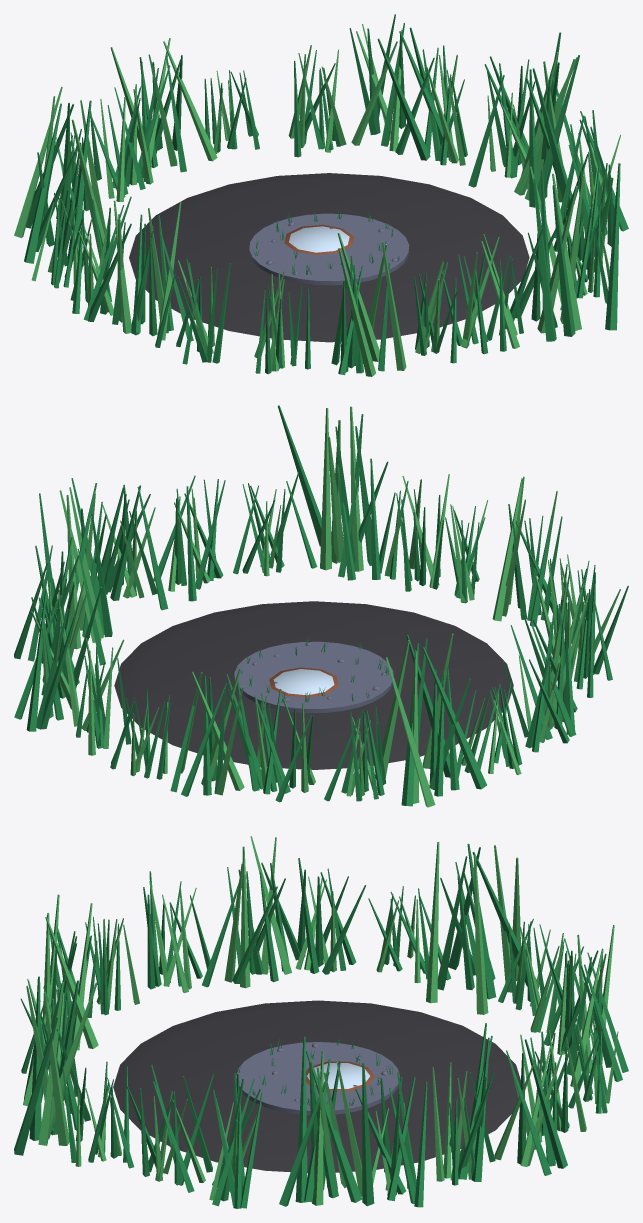
File: riptide_eel.glb
The picture shows the model from 3 angles, top to bottom: view 1: azimuth 30°, elevation 25°; view 2: azimuth 150°, elevation 25°; view 3: azimuth 270°, elevation 25°; orthographic projection. The views are drawn at different scales.
Visible parts, largest first — view 1: RiptideEelGround; view 2: RiptideEelGround; view 3: RiptideEelGround.
Part boxes in pixels (x1=…): RiptideEelGround: x1=14, y1=14, x2=628, y2=376; RiptideEelGround: x1=14, y1=405, x2=628, y2=807; RiptideEelGround: x1=14, y1=836, x2=628, y2=1208.
Bounding box in the file's own units: 44.06 × 12.6 × 45.
1 material, 1 textured.
